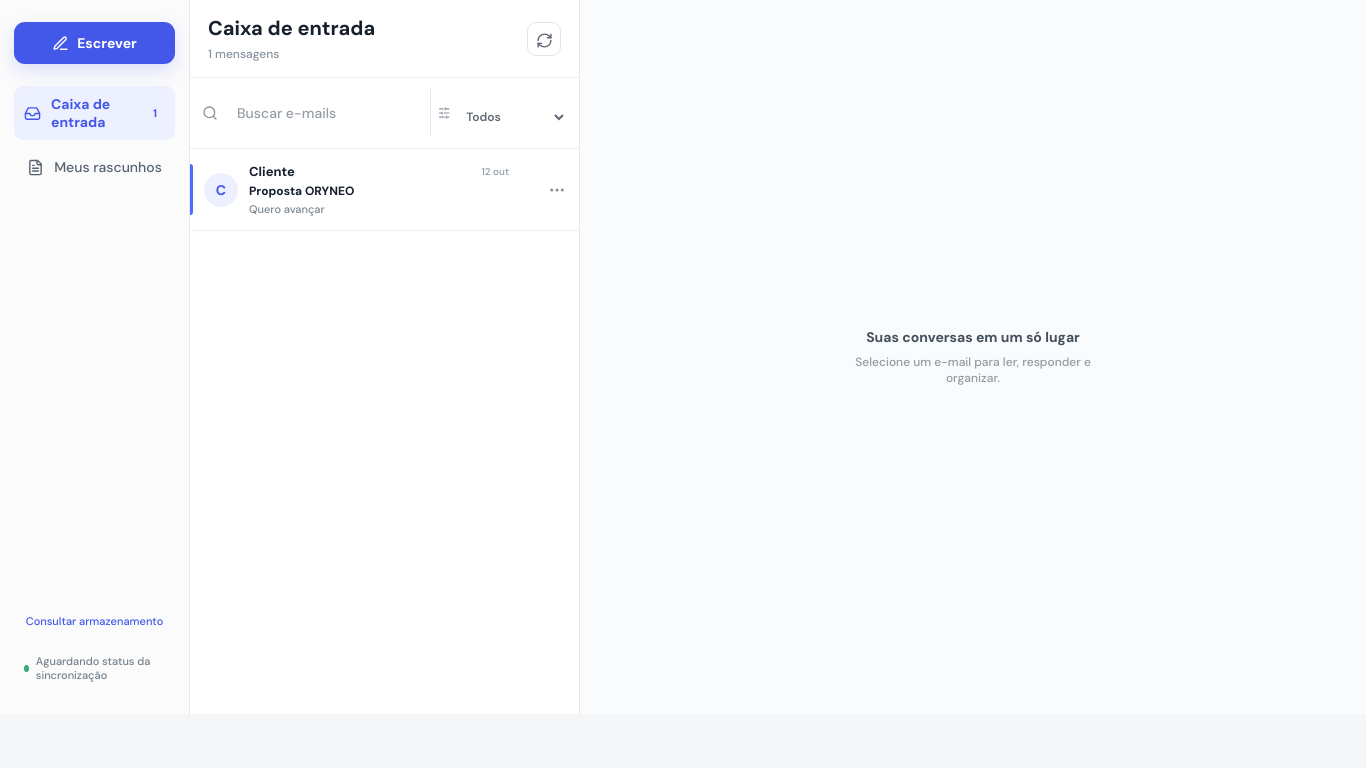
it: Mailbox › carrega pastas, lista e abre a conversa
Expected: the text "Proposta ORYNEO" is shown, x1=249 y1=183 x2=354 y2=199
Expected: the text "Caixa de entrada" is shown 2 times, x1=51 y1=95 x2=110 y2=131; x1=208 y1=15 x2=375 y2=41
What coordinates should you click on to do the following:
click the button with aria-label "abrir conversa proposta oryneo"
I would click on:
 (221, 190)
Its box is x1=190 y1=149 x2=541 y2=230.
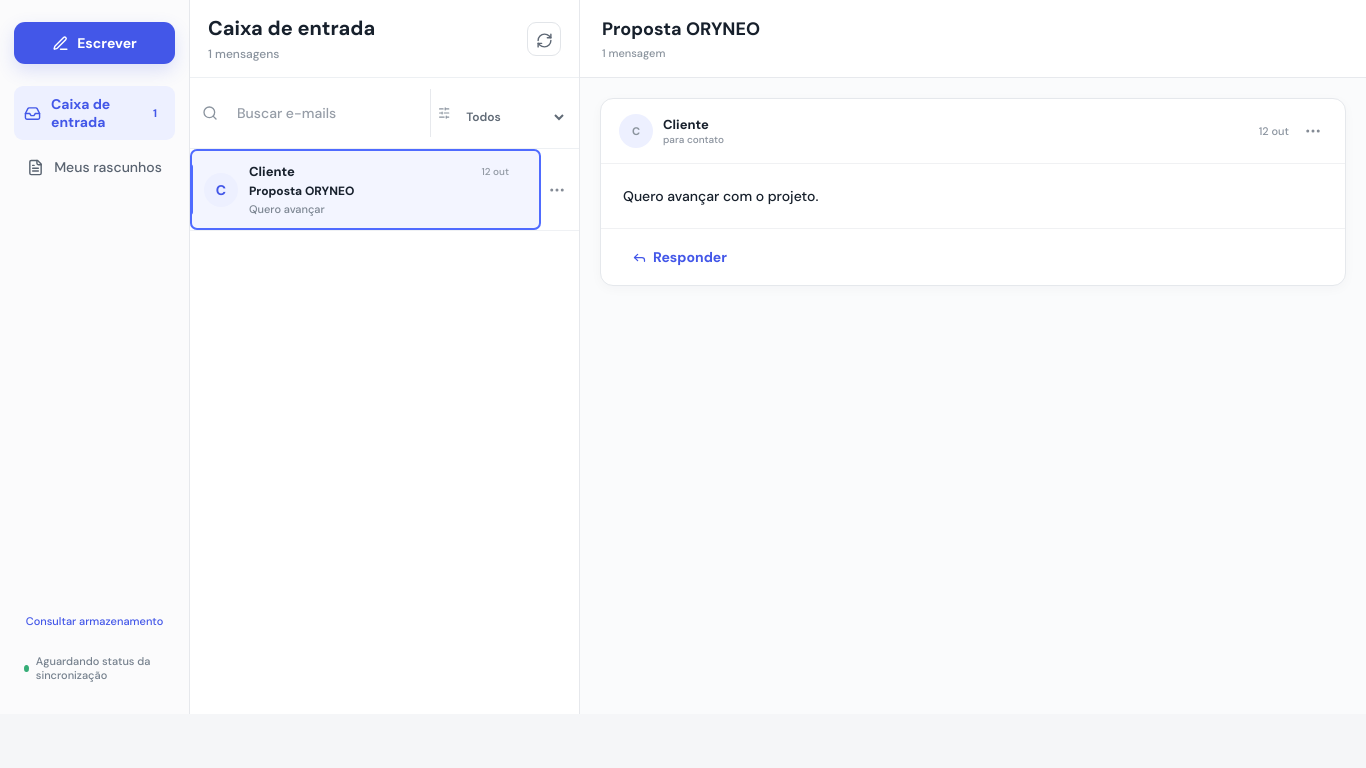
Now the text "Quero avançar com o projeto." is shown, box x1=623 y1=187 x2=818 y2=205
